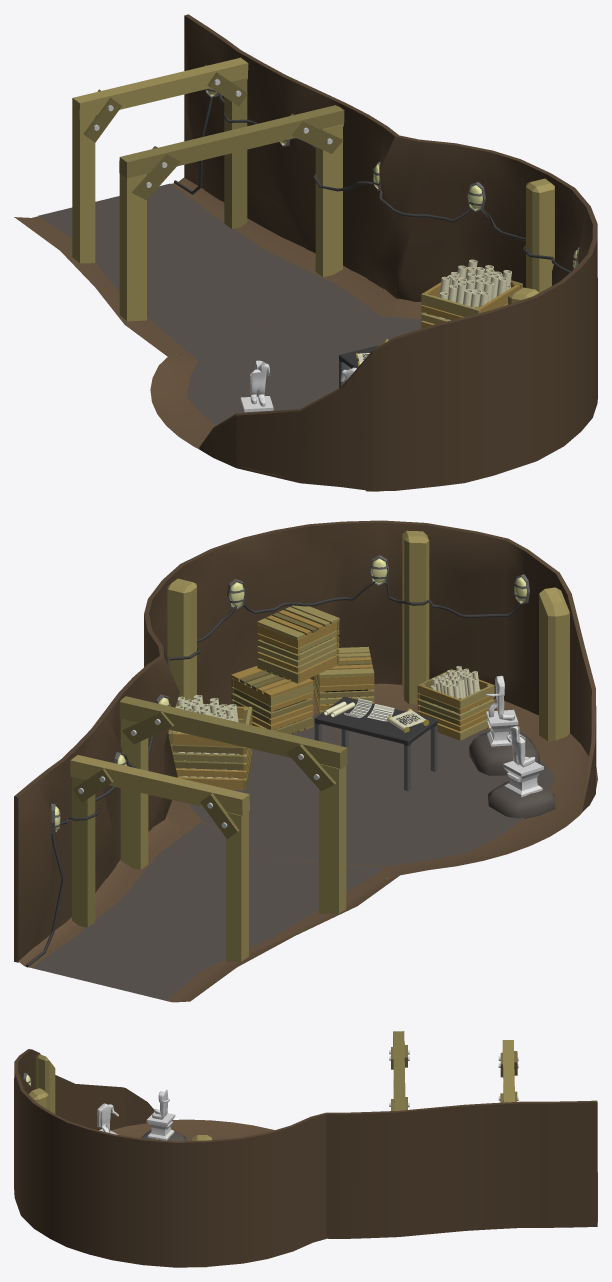
The model's file is AvaArtefaktVersteck.fbx.
The picture shows the model from 3 angles, top to bottom: view 1: azimuth 30°, elevation 25°; view 2: azimuth 150°, elevation 25°; view 3: azimuth 270°, elevation 25°; orthographic projection. The views are drawn at different scales.
Visible parts, largest first — view 1: Wand, pPlane2, pDisc2, pCube3 (×2), pCube1 (×2), pPlane1, pCube2 (×2), pDisc1, pCube8, Kabel, pCube5 (×2), pCube7 (+2 smaller); view 2: Wand, pDisc2, pPlane2, pDisc1, pCube3 (×2), pCube1 (×2), pPlane1, pCube2 (×2), pCube10, pCube9, pCube8, Tisch (+7 smaller); view 3: Wand, pDisc1, pCube3 (×2), pCube10, Statuen:pCube210, Statuen:pCube211.
Part boxes in pixels (x1=…): Wand: x1=184, y1=14, x2=597, y2=491; pPlane2: x1=38, y1=183, x2=380, y2=360; pDisc2: x1=187, y1=316, x2=422, y2=425; pCube3 (×2): x1=72, y1=57, x2=344, y2=178; pCube1 (×2): x1=72, y1=114, x2=146, y2=321; pPlane1: x1=14, y1=177, x2=403, y2=356; pCube2 (×2): x1=224, y1=77, x2=342, y2=277; pDisc1: x1=150, y1=299, x2=423, y2=477; pCube8: x1=526, y1=178, x2=554, y2=292; Kabel: x1=174, y1=93, x2=570, y2=273; pCube5 (×2): x1=83, y1=97, x2=180, y2=200; pCube7: x1=292, y1=121, x2=343, y2=153; Wand: x1=14, y1=520, x2=596, y2=962; pDisc2: x1=188, y1=712, x2=554, y2=865; pPlane2: x1=32, y1=822, x2=383, y2=1000; pDisc1: x1=166, y1=683, x2=597, y2=879; pCube3 (×2): x1=70, y1=696, x2=347, y2=815; pCube1 (×2): x1=226, y1=764, x2=346, y2=961; pPlane1: x1=17, y1=816, x2=399, y2=1002; pCube2 (×2): x1=72, y1=718, x2=148, y2=927; pCube10: x1=539, y1=587, x2=569, y2=741; pCube9: x1=402, y1=530, x2=429, y2=704; pCube8: x1=167, y1=578, x2=196, y2=732; Tisch: x1=314, y1=696, x2=437, y2=791; Wand: x1=14, y1=1049, x2=597, y2=1267; pDisc1: x1=111, y1=1119, x2=274, y2=1140; pCube3 (×2): x1=393, y1=1031, x2=514, y2=1110; pCube10: x1=36, y1=1054, x2=55, y2=1113; Statuen:pCube210: x1=146, y1=1112, x2=175, y2=1140; Statuen:pCube211: x1=97, y1=1103, x2=118, y2=1132.
Size of the model in its own units: 24.57 by 10.27 by 41.85.
